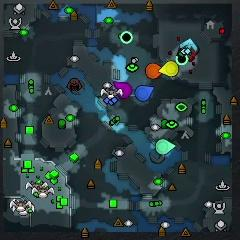p1: (136, 85, 155, 102)
p2: (156, 139, 175, 155)
p2Clone: (120, 31, 133, 45), (176, 53, 188, 66)
p3: (113, 81, 132, 99)
p4: (160, 61, 179, 77)
p5: (146, 63, 163, 79)
x3: (180, 38, 197, 53)
